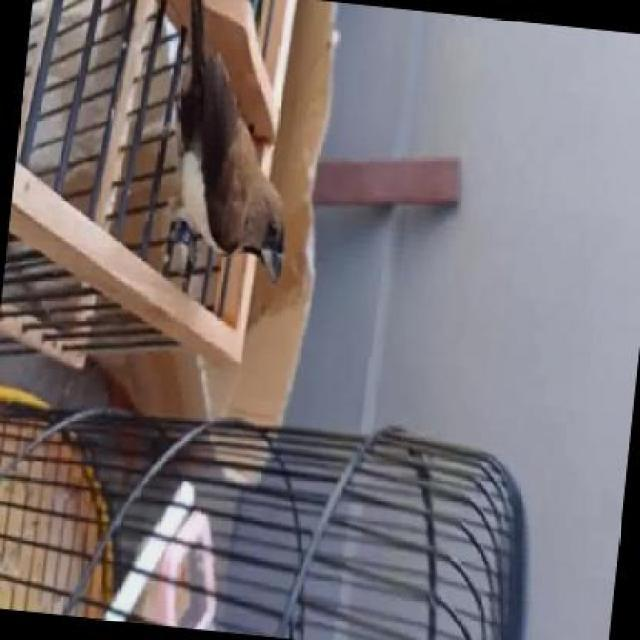Bird: (168, 0, 309, 294)
